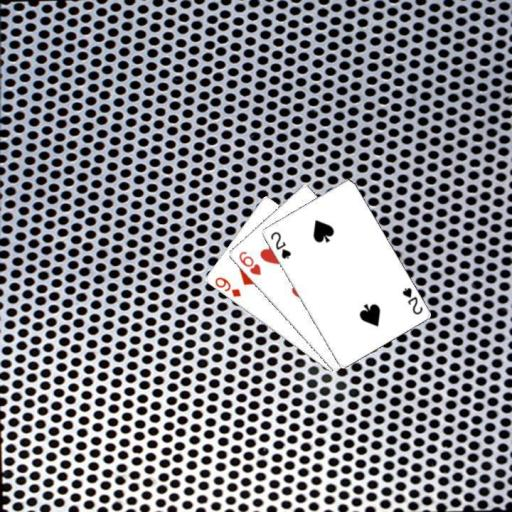card-corner: (399, 284, 424, 316), (268, 228, 292, 260), (236, 248, 262, 277), (211, 274, 242, 298)
